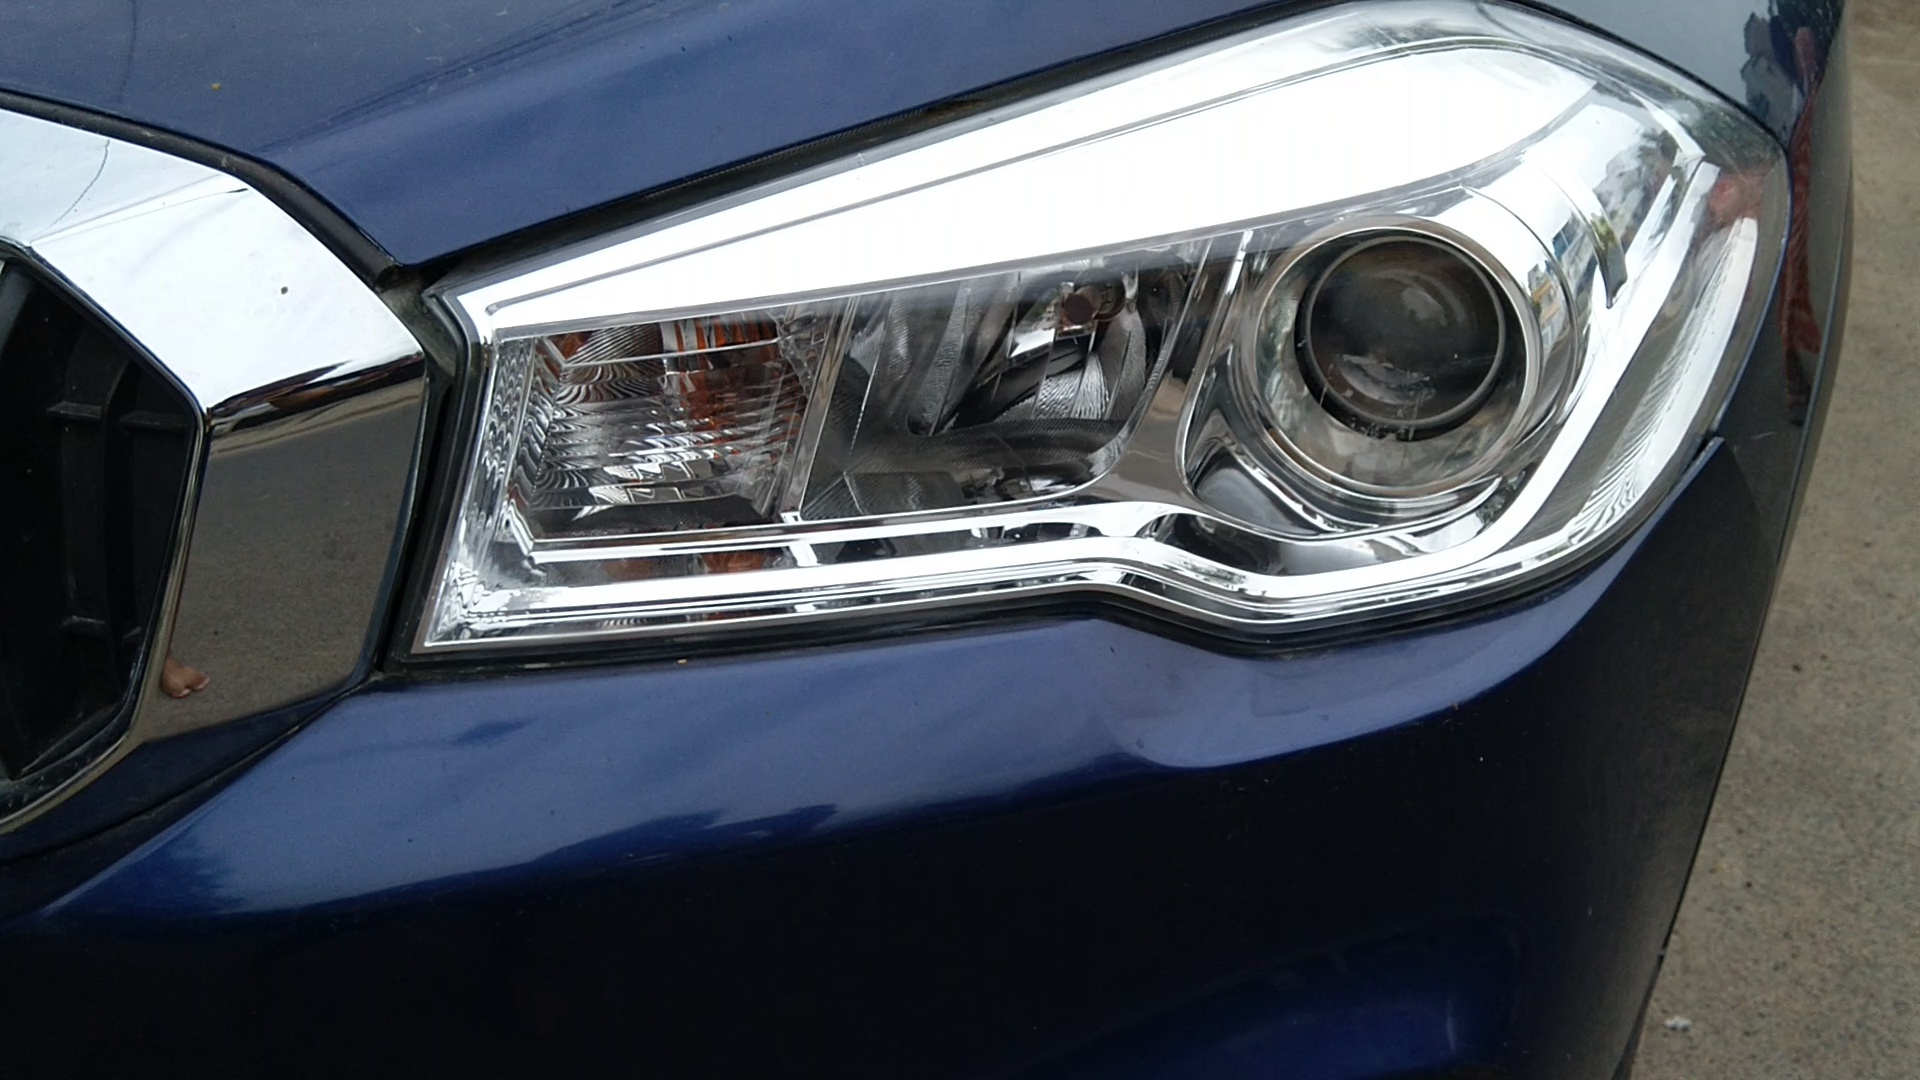headlamp: (371, 1, 1774, 882)
